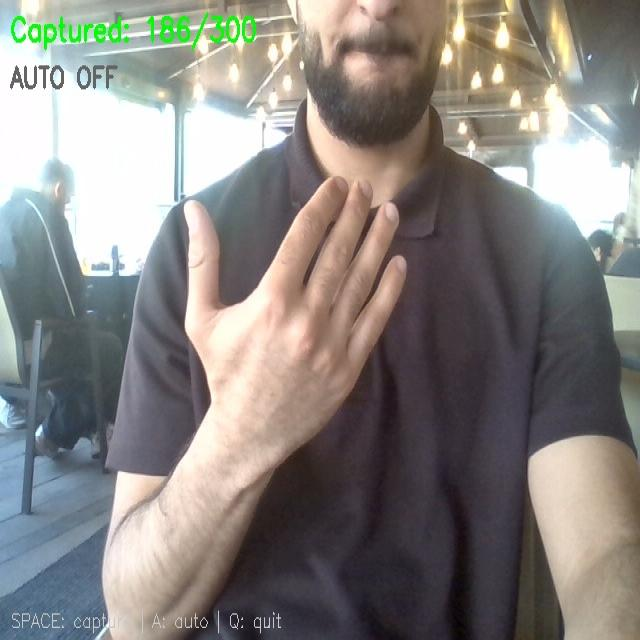Hand: (184, 178, 405, 467)
